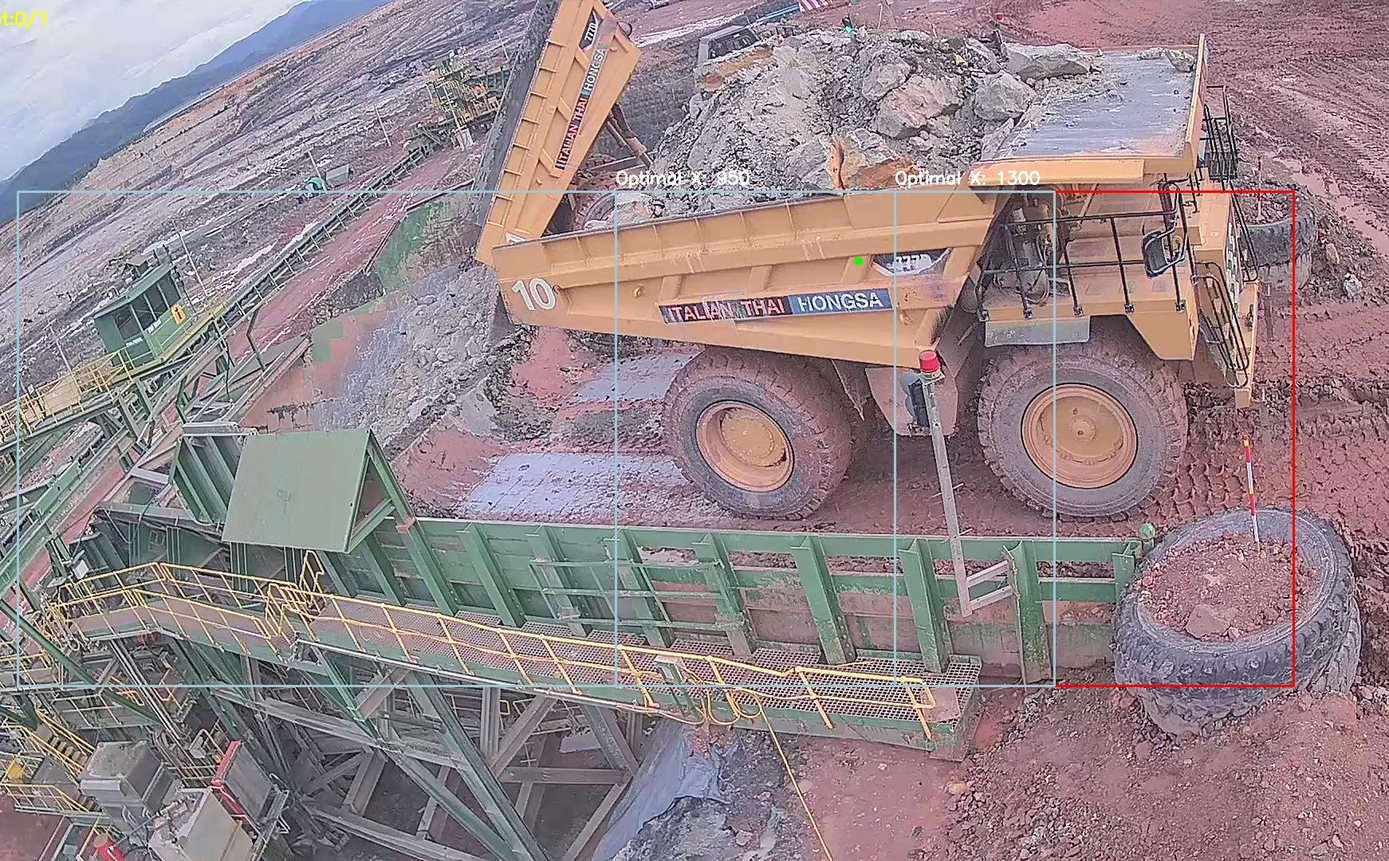company: (645, 280, 915, 329)
full_load: (679, 24, 1021, 226)
mining_truck: (483, 15, 1291, 527)
tail_number: (503, 270, 570, 323)
truck_size: (870, 238, 953, 281)
